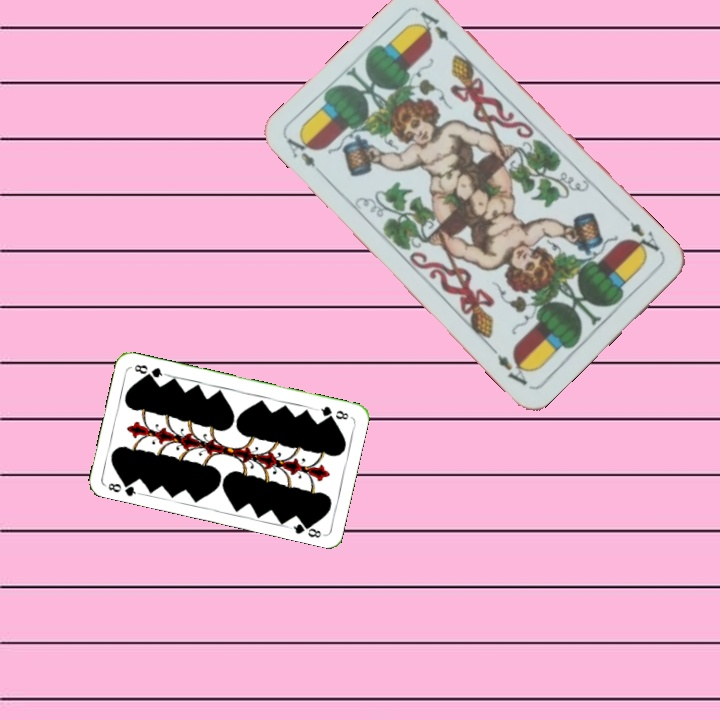EA: (620, 211, 666, 260), (282, 130, 328, 179)
G8: (102, 476, 142, 499), (313, 402, 351, 422)
